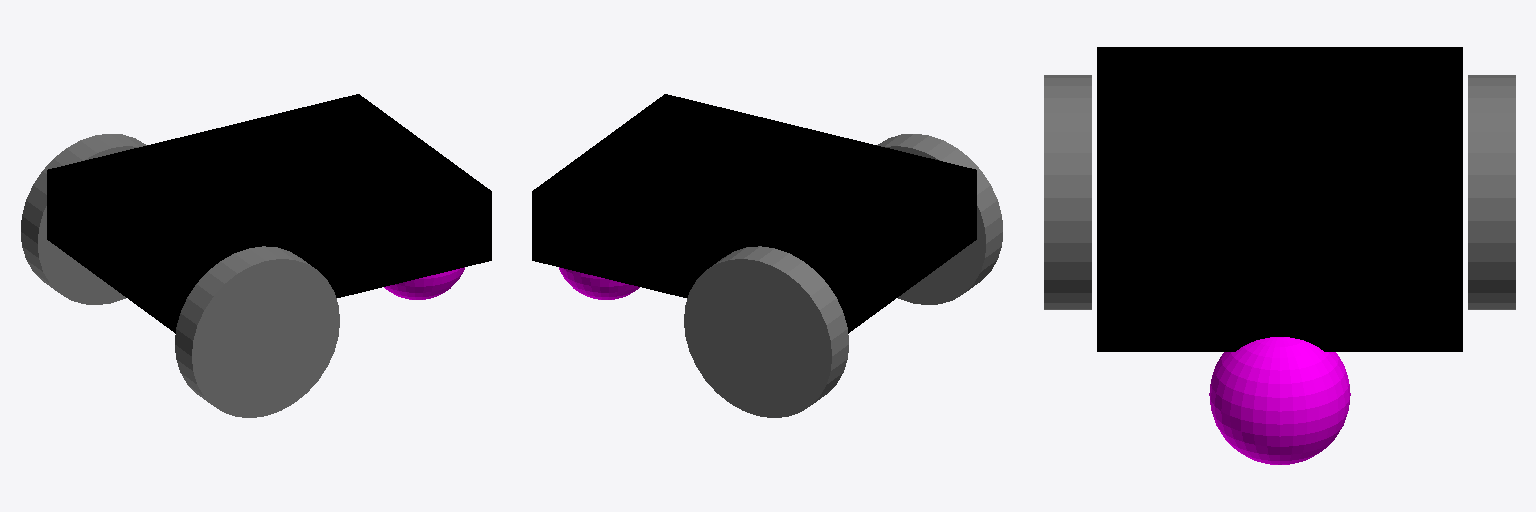
The robot description file, URDF, robot "mobile_robot":
<?xml version="1.0"?>
<robot name="mobile_robot">

  <!-- Robot Base -->
  <link name="base_link">
    <visual>
      <geometry>
        <box size="0.42 0.31 0.09"/>
      </geometry>
      <material name="Cyan_1">
        <color rgba="0.0 0.0 0.0 1.0"/>
      </material>
    </visual>

    <collision>
      <geometry>
        <box size="0.42 0.31 0.09"/>
      </geometry>
    </collision>
 </link>
  
   <!-- Robot Footprint -->
  <link name="base_footprint">
  </link>

  <joint name="base_joint" type="fixed">
    <parent link="base_link"/>
    <child link="base_footprint"/>
    <origin xyz="0.0 0.0 -0.15" rpy="0 0 0"/>
  </joint>

  <!-- Left Wheel -->
  <link name="drivewhl_l_link">
    <visual>
      <origin xyz="0 0 0" rpy="1.5708 0 0"/>
      <geometry>
          <cylinder radius="0.10" length="0.04"/>
      </geometry>
      <material name="Gray">
        <color rgba="0.5 0.5 0.5 1.0"/>
      </material>
    </visual>

    <collision>
      <origin xyz="0 0 0" rpy="1.5708 0 0"/> 
      <geometry>
        <cylinder radius="0.10" length="0.04"/>
      </geometry>
    </collision>
  </link>

  <joint name="drivewhl_l_joint" type="continuous">
    <parent link="base_link"/>
    <child link="drivewhl_l_link"/>
    <origin xyz="-0.12 0.18 -0.05" rpy="0 0 0"/>
    <axis xyz="0 1 0"/>
  </joint>

  <!-- Right Wheel -->
  <link name="drivewhl_r_link">
    <visual>
      <origin xyz="0 0 0" rpy="1.5708 0 0"/>
      <geometry>
          <cylinder radius="0.10" length="0.04"/>
      </geometry>
      <material name="Gray">
        <color rgba="0.5 0.5 0.5 1.0"/>
      </material>
    </visual>

    <collision>
      <origin xyz="0 0 0" rpy="1.5708 0 0"/> 
      <geometry>
        <cylinder radius="0.10" length="0.04"/>
      </geometry>
    </collision>
  </link>

  <joint name="drivewhl_r_joint" type="continuous">
    <parent link="base_link"/>
    <child link="drivewhl_r_link"/>
    <origin xyz="-0.12 -0.18 -0.05" rpy="0 0 0"/>
    <axis xyz="0 1 0"/>
  </joint>

  <!-- Caster -->
  <link name="front_caster">
    <visual>
      <geometry>
        <sphere radius="0.06"/>
      </geometry>
      <material name="Cyan_2">
        <color rgba="1.0 0.0 1.0 1.0"/>
      </material>
    </visual>

    <collision>
      <origin xyz="0 0 0" rpy="0 0 0"/>
      <geometry>
        <sphere radius="0.06"/>
      </geometry>
    </collision>
  </link>

  <joint name="caster_joint" type="fixed">
    <parent link="base_link"/>
    <child link="front_caster"/>
    <origin xyz="0.20 0.0 -0.09" rpy="0 0 0"/>
  </joint>

</robot>

--- Facts derived from the render (not from the file) ---
3 views of the same robot in one strip: view 1: azimuth 30°, elevation 25°; view 2: azimuth 150°, elevation 25°; view 3: azimuth 270°, elevation 25° (orthographic).
Model mobile_robot with 5 links and 4 joints (2 continuous, 2 fixed), rooted at base_link, posed every joint at zero.
Visible links, largest first — view 1: base_link, drivewhl_r_link, drivewhl_l_link, front_caster; view 2: base_link, drivewhl_l_link, drivewhl_r_link, front_caster; view 3: base_link, front_caster, drivewhl_l_link, drivewhl_r_link.
Link boxes in pixels (x1,y1,x2,y2): base_link: (47,94,491,333); drivewhl_r_link: (175,246,339,417); drivewhl_l_link: (21,134,146,304); front_caster: (384,267,464,299); base_link: (532,94,976,333); drivewhl_l_link: (684,246,848,417); drivewhl_r_link: (877,134,1002,304); front_caster: (559,267,639,299); base_link: (1097,47,1462,351); front_caster: (1209,337,1350,464); drivewhl_l_link: (1468,75,1515,309); drivewhl_r_link: (1044,75,1091,309).
Size in the robot's own frame: 0.48 by 0.4 by 0.2 metres.
Geometry: primitives only (box / cylinder / sphere), no mesh files.